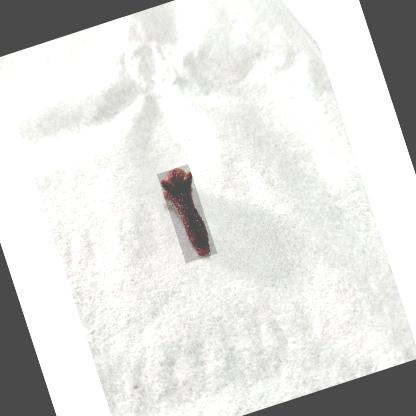baik: (161, 168, 211, 258)
